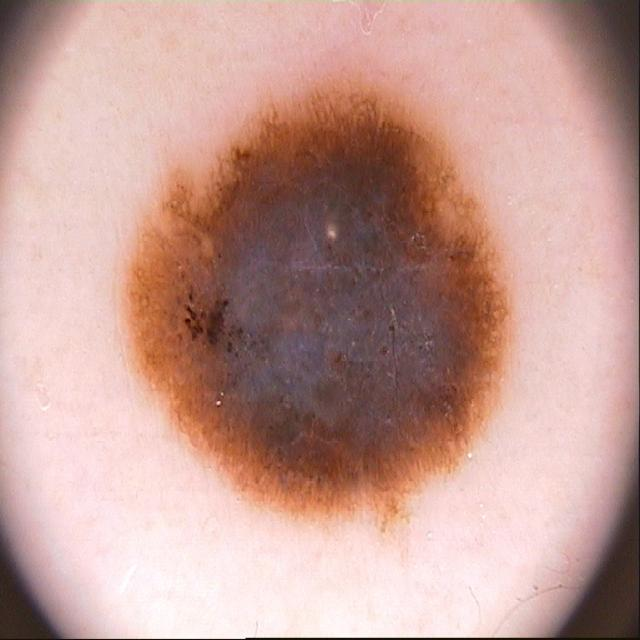Melanoma: (115, 79, 520, 532)
